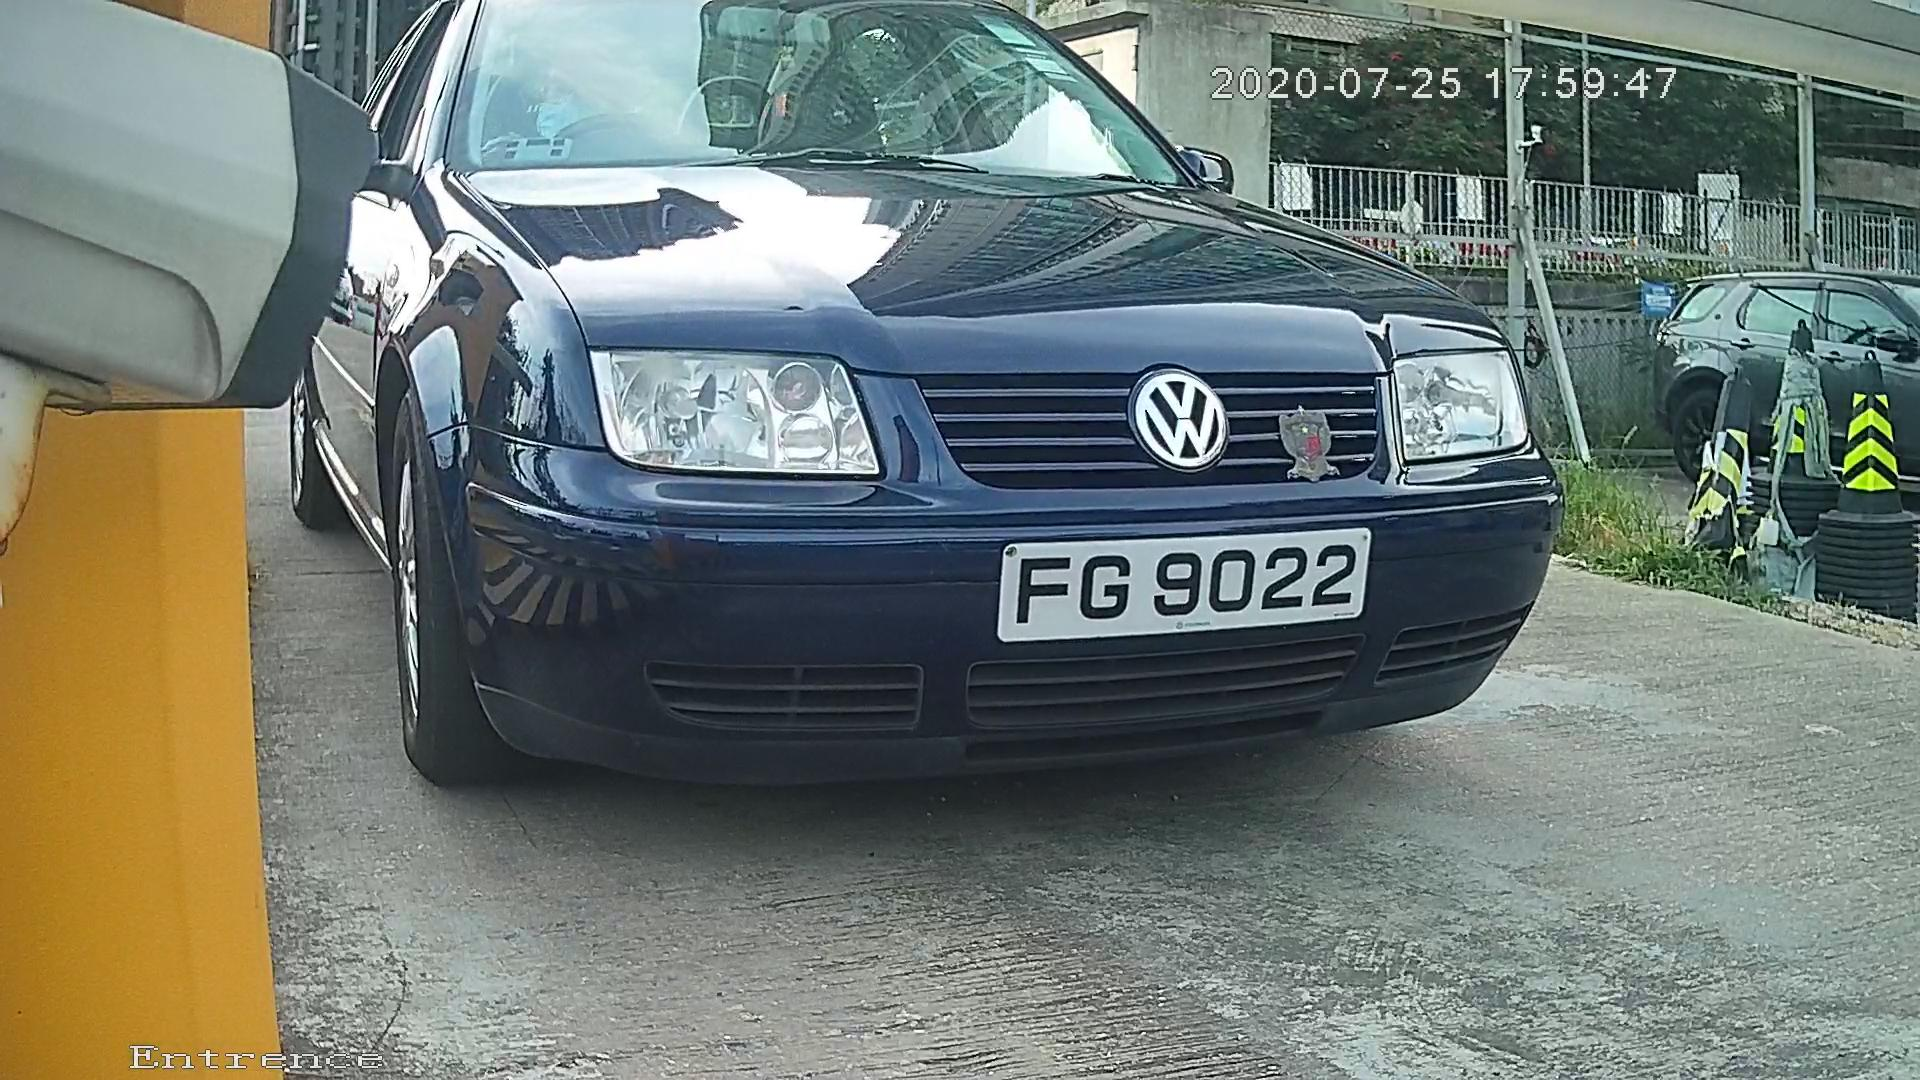License Plate: (986, 516, 1381, 647)
